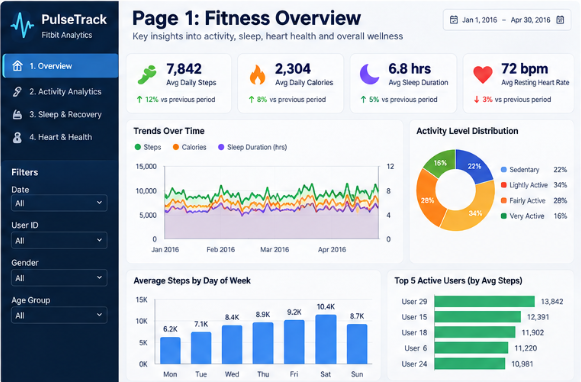

This screenshot's page, from the dashboard's own definition file:
{"tool":"powerbi","page":{"name":"Fitness Overview","canvas":[1280,720],"ordinal":0},"visuals":[{"type":"shape","box":[0,0,200,720],"z":0},{"type":"shape","box":[12,84,176,36],"z":1000},{"type":"textbox","box":[14,14,180,52],"z":2000},{"type":"textbox","box":[20,89,168,28],"z":3000},{"type":"textbox","box":[20,131,168,28],"z":4000},{"type":"textbox","box":[20,173,168,28],"z":5000},{"type":"textbox","box":[20,215,168,28],"z":6000},{"type":"actionButton","box":[12,84,176,36],"z":7000},{"type":"actionButton","box":[12,126,176,36],"z":8000},{"type":"actionButton","box":[12,168,176,36],"z":9000},{"type":"actionButton","box":[12,210,176,36],"z":10000},{"type":"textbox","box":[13.9,262.2,170.2,32.1],"z":11000},{"type":"slicer","title":"User ID","fields":{"Values":["dim_user.UserLabel"]},"box":[12,294,176,58],"z":12000},{"type":"slicer","title":"Activity Segment","fields":{"Values":["dim_user.ActivitySegment"]},"box":[12,358,176,58],"z":13000},{"type":"slicer","title":"Weekday","fields":{"Values":["dim_date.WeekdayName"]},"box":[12,422,176,58],"z":14000},{"type":"textbox","box":[216.3,0,702.3,44.2],"z":15000},{"type":"textbox","box":[216.3,39.5,760.5,30.2],"z":16000},{"type":"slicer","fields":{"Values":["dim_date.Date"]},"box":[1000,14,264,52],"z":17000},{"type":"card","title":"Avg Daily Steps","fields":{"Values":["_Measures.Avg Daily Steps"]},"box":[216,82,253,88],"z":18000},{"type":"card","title":"Avg Daily Calories","fields":{"Values":["_Measures.Avg Daily Calories"]},"box":[481,82,253,88],"z":19000},{"type":"card","title":"Avg Sleep Duration (hrs)","fields":{"Values":["_Measures.Avg Sleep Hrs"]},"box":[746,82,253,88],"z":20000},{"type":"card","title":"Avg Resting Heart Rate (bpm)","fields":{"Values":["_Measures.Resting HR (approx)"]},"box":[1011,82,253,88],"z":21000},{"type":"lineChart","title":"Daily Wellness Trends","fields":{"Category":["dim_date.Date"],"Y":["_Measures.Avg Daily Steps","_Measures.Avg Daily Calories"],"Y2":["_Measures.Avg Sleep Hrs"]},"box":[216,182,640,250],"z":22000},{"type":"donutChart","title":"Activity Level Distribution","fields":{"Category":["dim_user.ActivitySegment"],"Y":["_Measures.Active Users"]},"box":[868,182,396,250],"z":23000},{"type":"clusteredColumnChart","title":"Average Steps by Day of Week","fields":{"Category":["dim_date.WeekdayName"],"Y":["_Measures.Avg Daily Steps"]},"box":[216,444,640,264],"z":24000},{"type":"barChart","title":"Top 5 Active Users (by Avg Steps)","fields":{"Category":["dim_user.UserLabel"],"Y":["_Measures.Avg Daily Steps"]},"box":[868,444,396,264],"z":25000}]}

Visuals, with their boxes on the page's 1280x720 design canvas (x1, y1, x2, y2). These are canvas units, not pixel positions in the 581x382 screenshot, which may show the page scaled, cropped or inside an application window:
shape: bbox=[0, 0, 200, 720]
shape: bbox=[12, 84, 188, 120]
textbox: bbox=[14, 14, 194, 66]
textbox: bbox=[20, 89, 188, 117]
textbox: bbox=[20, 131, 188, 159]
textbox: bbox=[20, 173, 188, 201]
textbox: bbox=[20, 215, 188, 243]
actionButton: bbox=[12, 84, 188, 120]
actionButton: bbox=[12, 126, 188, 162]
actionButton: bbox=[12, 168, 188, 204]
actionButton: bbox=[12, 210, 188, 246]
textbox: bbox=[14, 262, 184, 294]
"User ID" slicer: bbox=[12, 294, 188, 352]
"Activity Segment" slicer: bbox=[12, 358, 188, 416]
"Weekday" slicer: bbox=[12, 422, 188, 480]
textbox: bbox=[216, 0, 919, 44]
textbox: bbox=[216, 40, 977, 70]
slicer - dim_date.Date: bbox=[1000, 14, 1264, 66]
"Avg Daily Steps" card: bbox=[216, 82, 469, 170]
"Avg Daily Calories" card: bbox=[481, 82, 734, 170]
"Avg Sleep Duration (hrs)" card: bbox=[746, 82, 999, 170]
"Avg Resting Heart Rate (bpm)" card: bbox=[1011, 82, 1264, 170]
"Daily Wellness Trends" lineChart: bbox=[216, 182, 856, 432]
"Activity Level Distribution" donutChart: bbox=[868, 182, 1264, 432]
"Average Steps by Day of Week" clusteredColumnChart: bbox=[216, 444, 856, 708]
"Top 5 Active Users (by Avg Steps)" barChart: bbox=[868, 444, 1264, 708]
